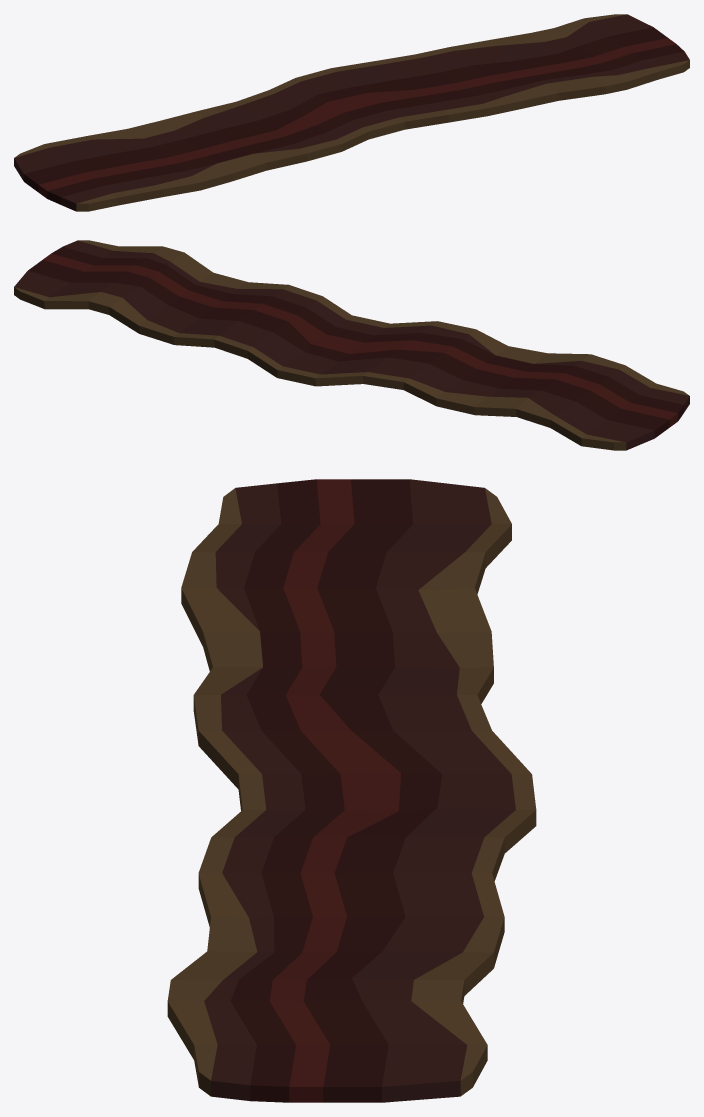
File: Bacon_Cooked.obj
The picture shows the model from 3 angles, top to bottom: view 1: azimuth 30°, elevation 25°; view 2: azimuth 150°, elevation 25°; view 3: azimuth 270°, elevation 25°; orthographic projection. The views are drawn at different scales.
Parts seen in each view (by area): view 1: Bacon_Cooked_Plane.014; view 2: Bacon_Cooked_Plane.014; view 3: Bacon_Cooked_Plane.014.
Boxes of the visible parts, x1,y1,x2,y2 form: Bacon_Cooked_Plane.014: (14,14,689,211); Bacon_Cooked_Plane.014: (14,240,689,450); Bacon_Cooked_Plane.014: (167,479,536,1102).
Bounding box in the file's own units: 1.16 × 0.0213 × 0.2968.
